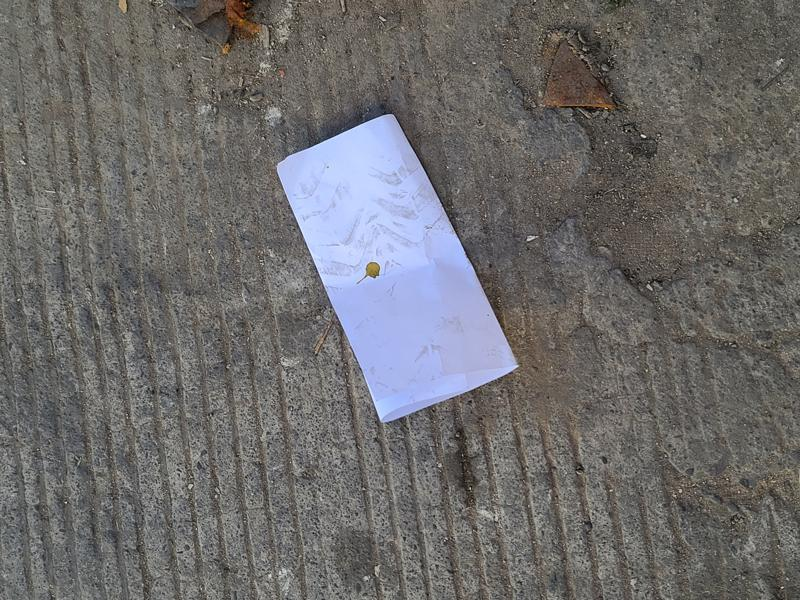papel: (274, 115, 518, 426)
